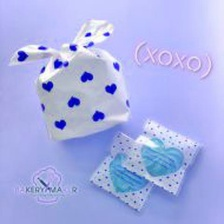snack: (2, 13, 136, 145), (118, 113, 206, 201), (83, 128, 161, 217)
